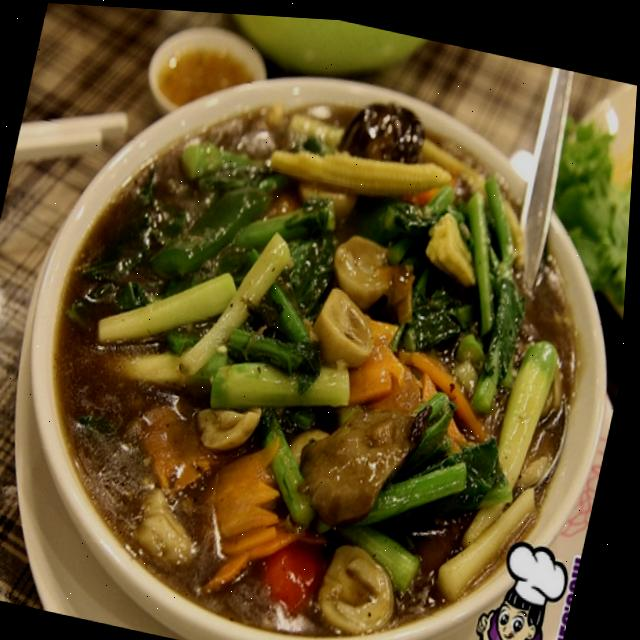面条主食: (0, 9, 640, 640)
